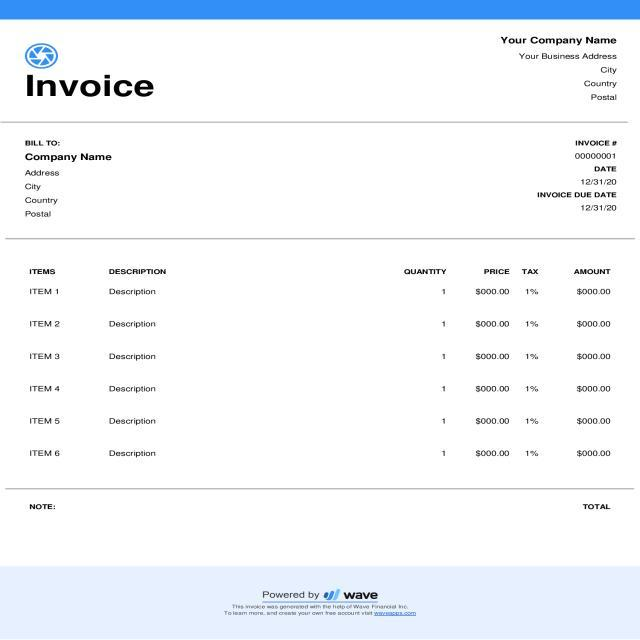ROI: (16, 253, 632, 477), (16, 130, 132, 237), (496, 33, 628, 108), (523, 133, 624, 215), (220, 583, 422, 619), (17, 67, 166, 109), (28, 502, 62, 511), (580, 503, 616, 511)
